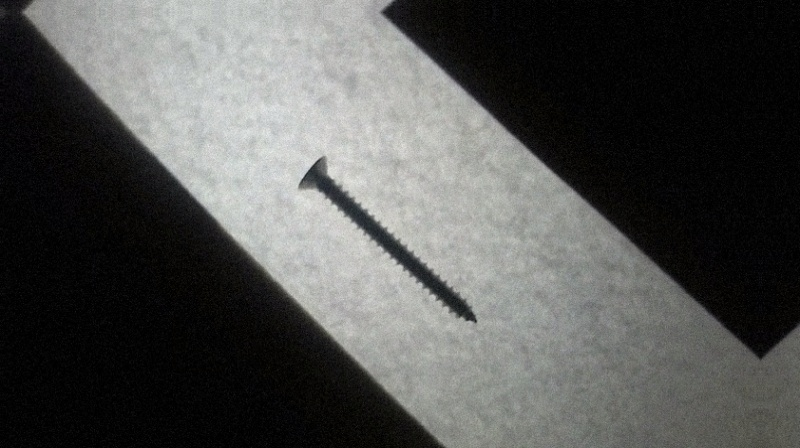S002: (293, 154, 479, 326)
